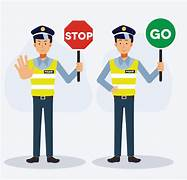stop: (63, 19, 94, 50)
